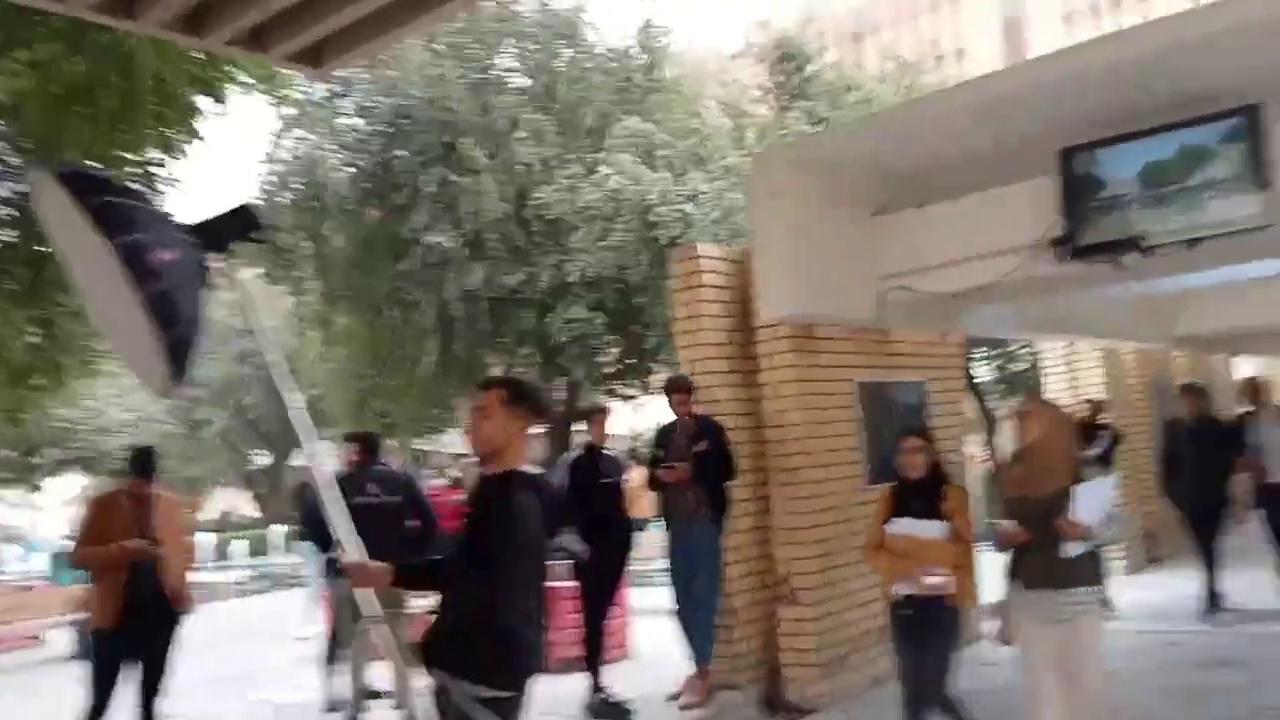person: (368, 374, 571, 719), (983, 376, 1106, 718), (70, 444, 196, 719), (862, 424, 978, 718), (646, 373, 736, 709), (556, 404, 638, 704), (1160, 380, 1251, 614)
tree: (234, 0, 938, 478), (0, 0, 311, 493)
